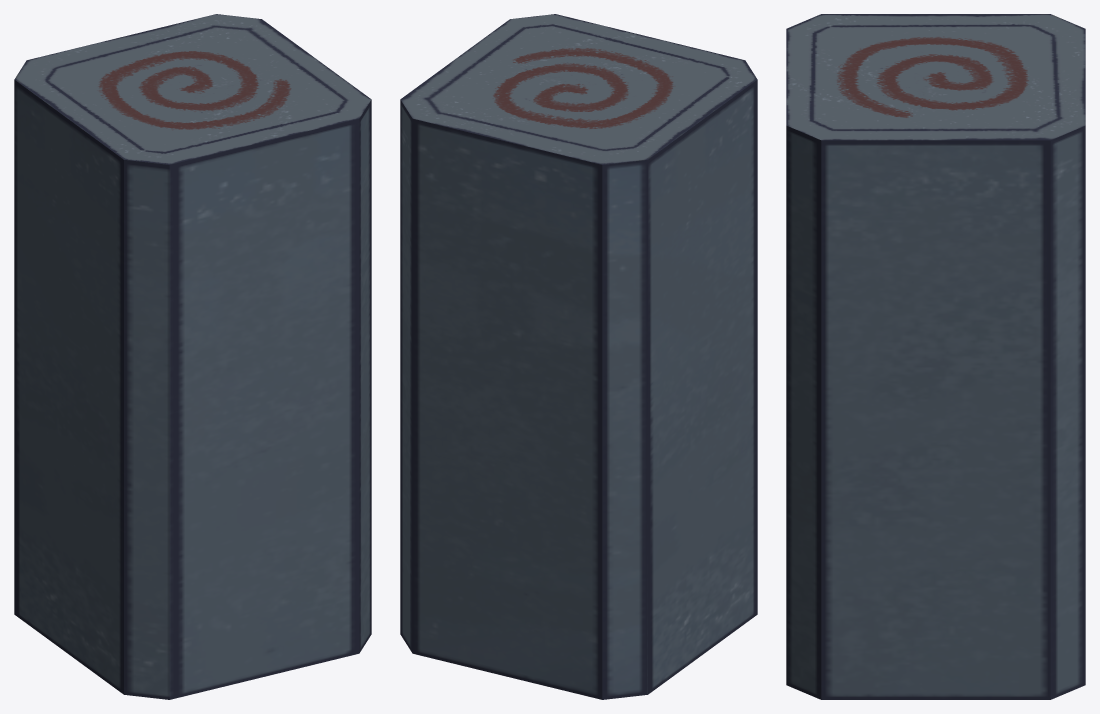
Rendered from Platform_1.glb.
The picture shows the model from 3 angles, left to right: view 1: azimuth 30°, elevation 25°; view 2: azimuth 150°, elevation 25°; view 3: azimuth 270°, elevation 25°; orthographic projection. The views are drawn at different scales.
Visible parts, largest first — view 1: Platform_1; view 2: Platform_1; view 3: Platform_1.
Part boxes in pixels (bbox=[...]): Platform_1: bbox=[14, 14, 371, 699]; Platform_1: bbox=[400, 14, 757, 699]; Platform_1: bbox=[786, 14, 1085, 699].
Size of what is drawn, in the model's own units: 1.6 by 3.31 by 1.6.
1 material, 1 textured.
